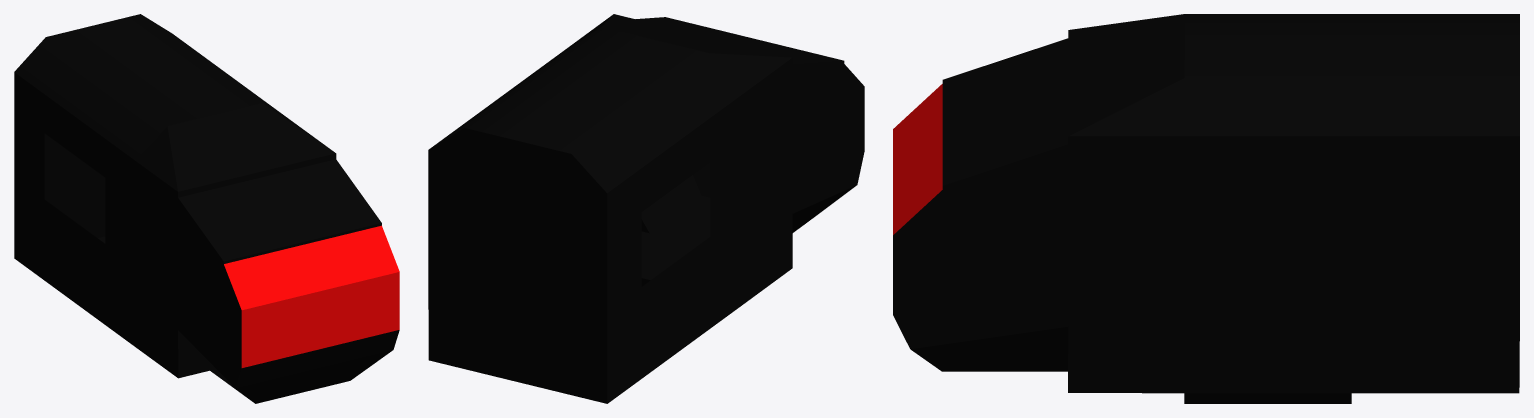
Rendered from MechBody2.FBX.
3 renders of one model, left to right at view 1: azimuth 30°, elevation 25°; view 2: azimuth 150°, elevation 25°; view 3: azimuth 270°, elevation 25°, orthographic. The views are drawn at different scales.
Parts seen in each view (by area): view 1: Box002; view 2: Box002; view 3: Box002.
Boxes of the visible parts, x1,y1,x2,y2 form: Box002: [14, 14, 399, 403]; Box002: [428, 14, 864, 403]; Box002: [893, 14, 1519, 403].
Bounding box in the file's own units: 3 × 4.57 × 7.48.
